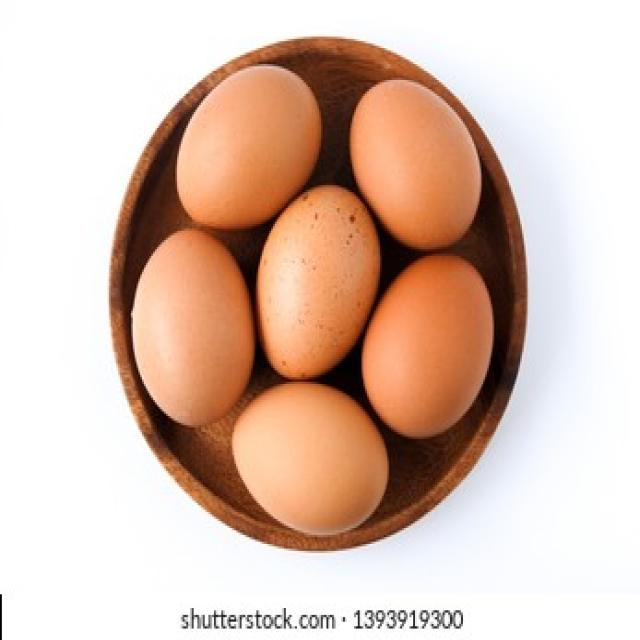Brown Egg: (224, 381, 392, 540), (360, 248, 497, 442), (130, 226, 256, 428), (177, 59, 325, 230), (347, 71, 487, 250), (265, 181, 375, 387)
